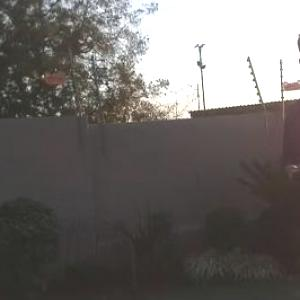follow: (282, 21, 299, 299)
